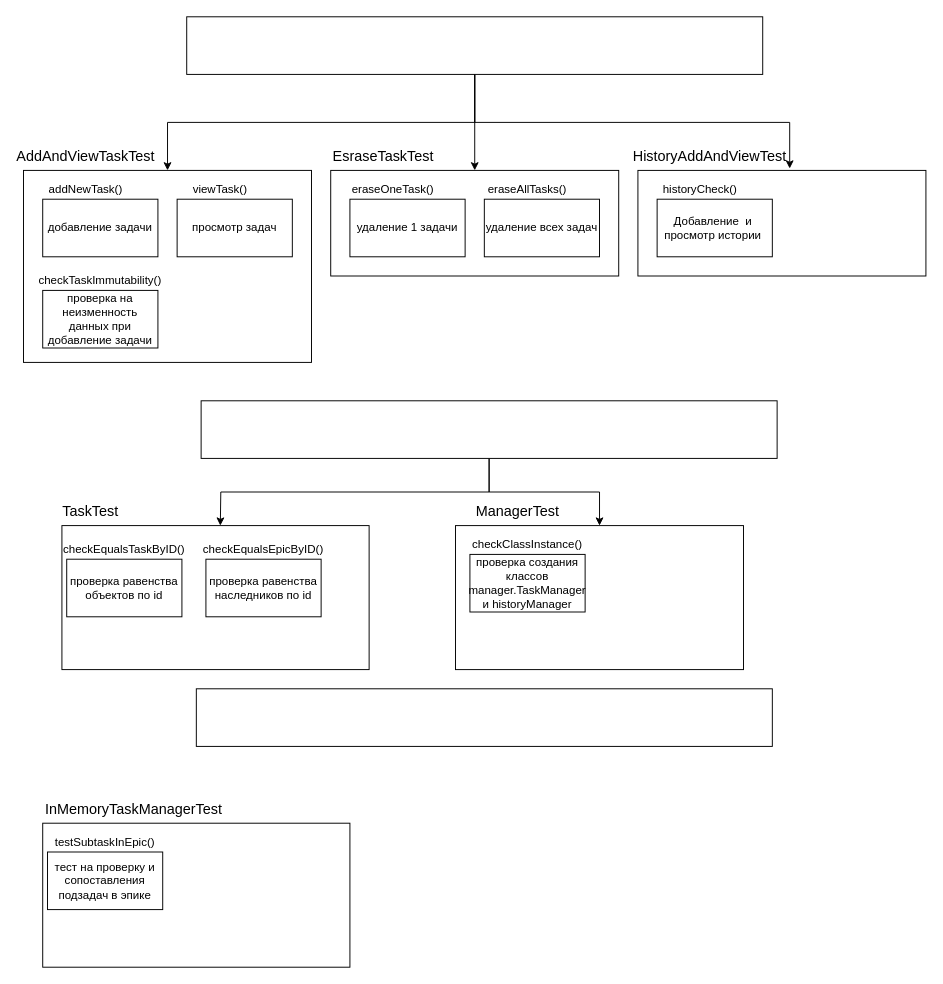
Some shapes in this 943 by 984 pixel diagram are drawn without their labels. Here are the shapes that lost their labels. From the top down, the centre of each, then its label:
the point at 474,45: Тестирование функциональных требований
the point at 488,429: Тестирование функциональности классов
the point at 483,717: Другие тесты
